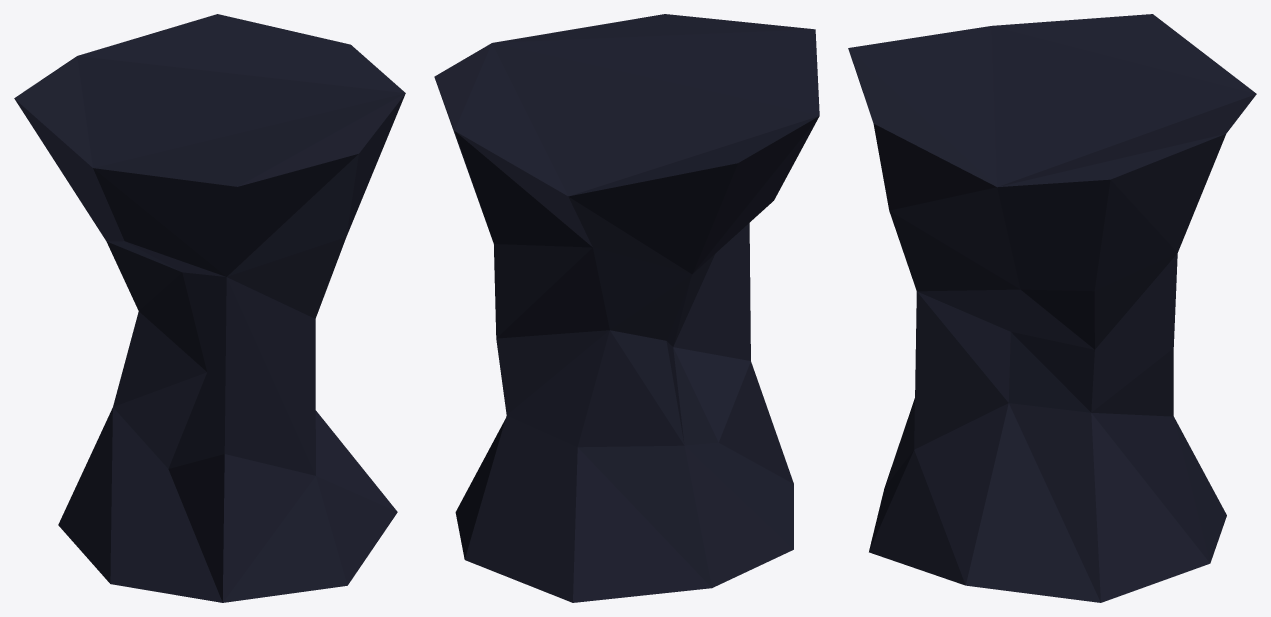
Rendered from CavePillar01.fbx.
3 renders of one model, left to right at view 1: azimuth 30°, elevation 25°; view 2: azimuth 150°, elevation 25°; view 3: azimuth 270°, elevation 25°, orthographic. The views are drawn at different scales.
Parts seen in each view (by area): view 1: Cylinder.191; view 2: Cylinder.191; view 3: Cylinder.191.
Part boxes in pixels (x1=…): Cylinder.191: x1=14, y1=14, x2=405, y2=602; Cylinder.191: x1=434, y1=14, x2=819, y2=602; Cylinder.191: x1=848, y1=14, x2=1256, y2=602.
Bounding box in the file's own units: 3537 × 4686 × 3882.
